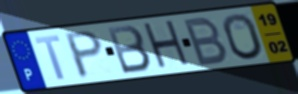B: (105, 24, 154, 76), (182, 15, 230, 68)
H: (140, 18, 194, 73)
O: (221, 12, 266, 62)
P: (63, 28, 105, 81)
T: (32, 33, 67, 81)
